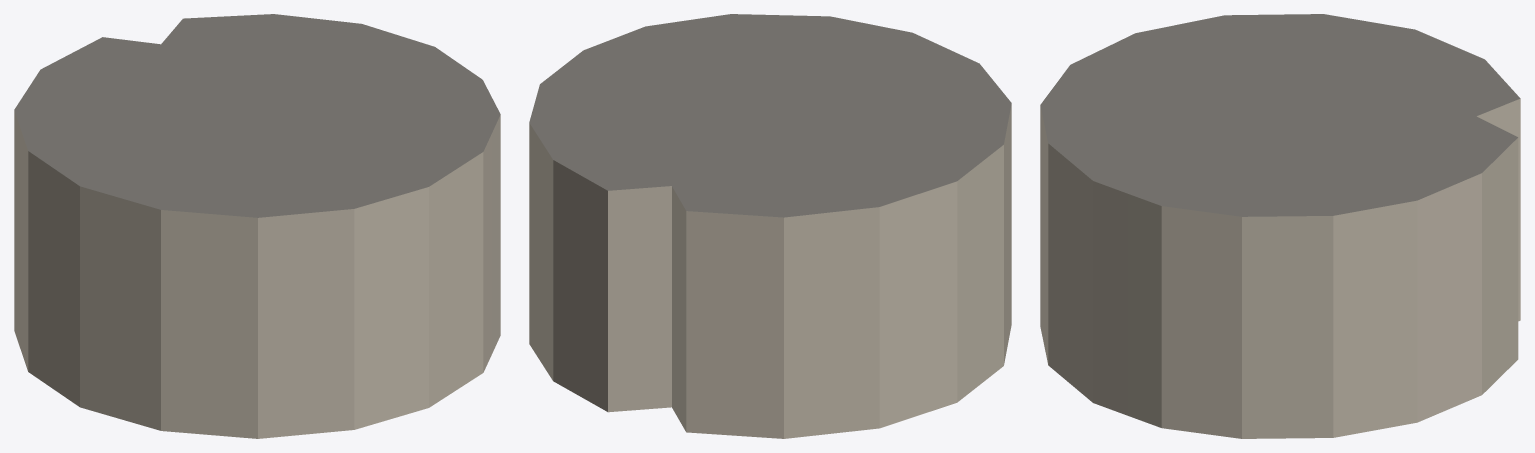
3 renders of one model, left to right at view 1: azimuth 30°, elevation 25°; view 2: azimuth 150°, elevation 25°; view 3: azimuth 270°, elevation 25°, orthographic.
Parts seen in each view (by area): view 1: HP-w299224151; view 2: HP-w299224151; view 3: HP-w299224151.
Part boxes in pixels (box(x1,y1,x2,y2)): HP-w299224151: box(14, 14, 500, 438); HP-w299224151: box(529, 14, 1011, 438); HP-w299224151: box(1040, 14, 1520, 438).
Bounding box in the file's own units: 35.26 × 18 × 35.27.
